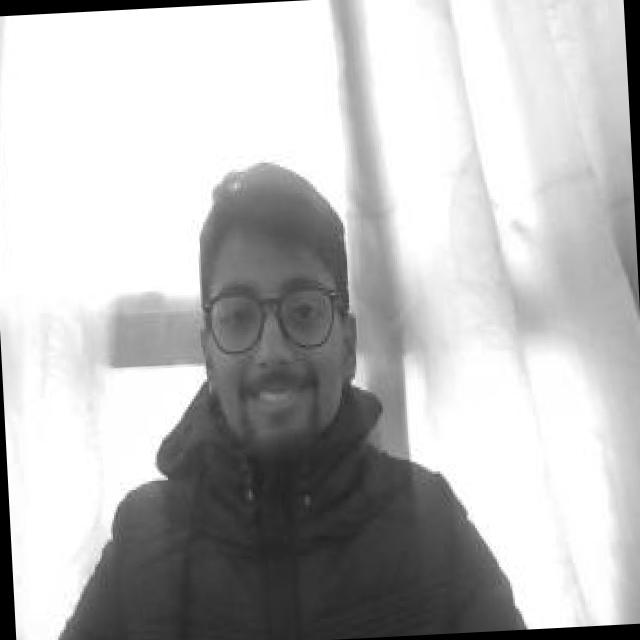Focused: (202, 231, 348, 451)
